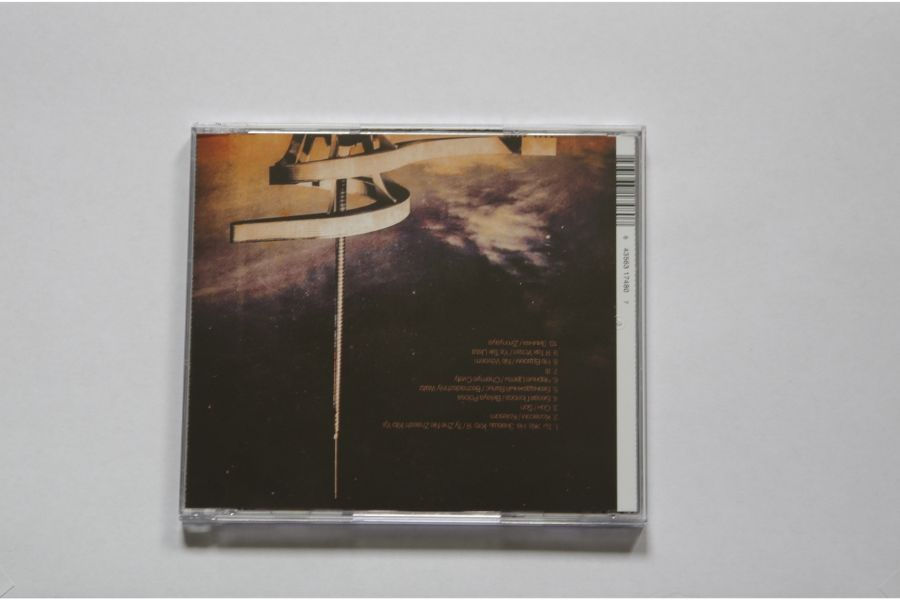album: (175, 122, 651, 528)
